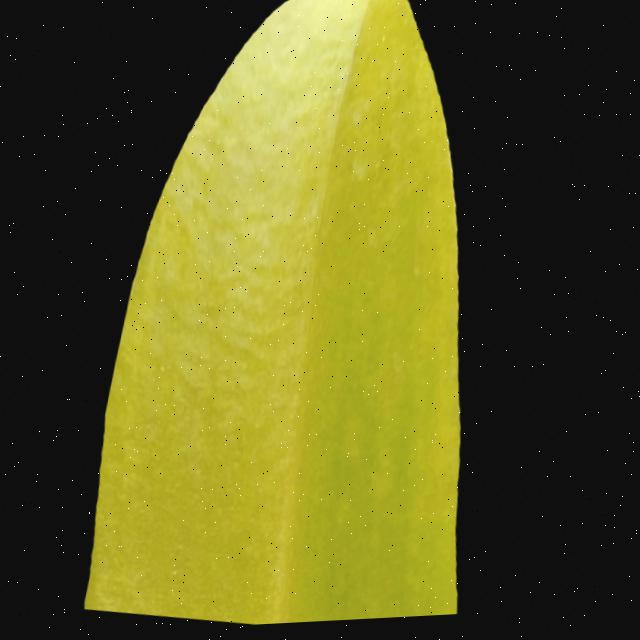mite: (346, 154, 386, 191), (173, 565, 191, 584), (160, 363, 174, 377), (177, 568, 189, 581)
spots: (71, 0, 592, 628)
